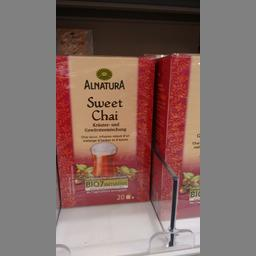tea: (56, 54, 154, 209)
